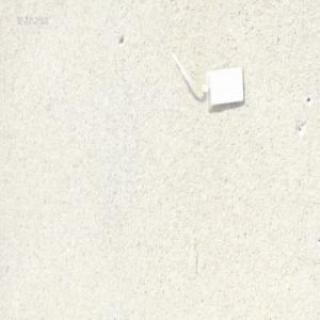LuggageTagtrack_idkeyframe: (166, 47, 244, 112)
